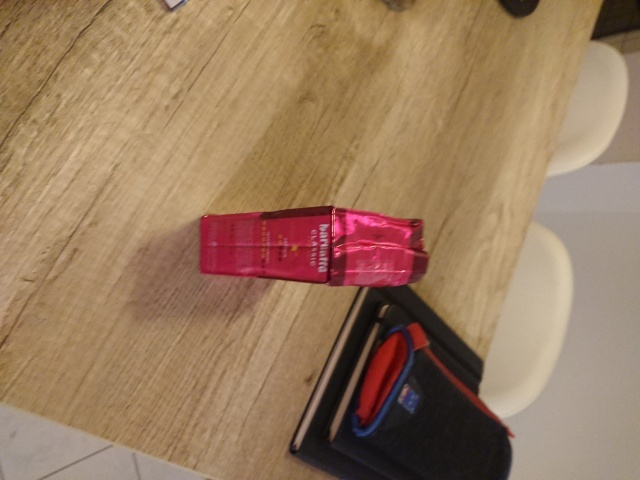Barcaffe Classic Original 225g: (197, 202, 432, 291)
